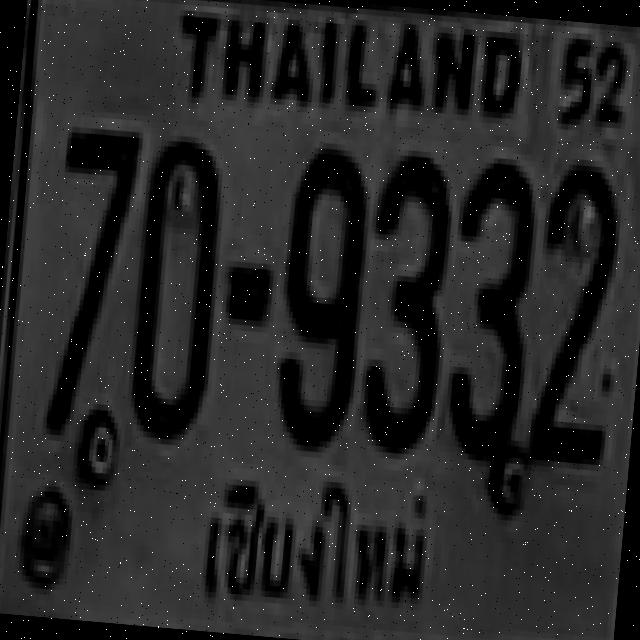0: (122, 130, 227, 438)
2: (524, 156, 625, 464)
3: (438, 155, 538, 463), (354, 148, 455, 450)
7: (38, 120, 140, 433)
9: (270, 140, 370, 448)
ChiangMai: (180, 454, 444, 640)
